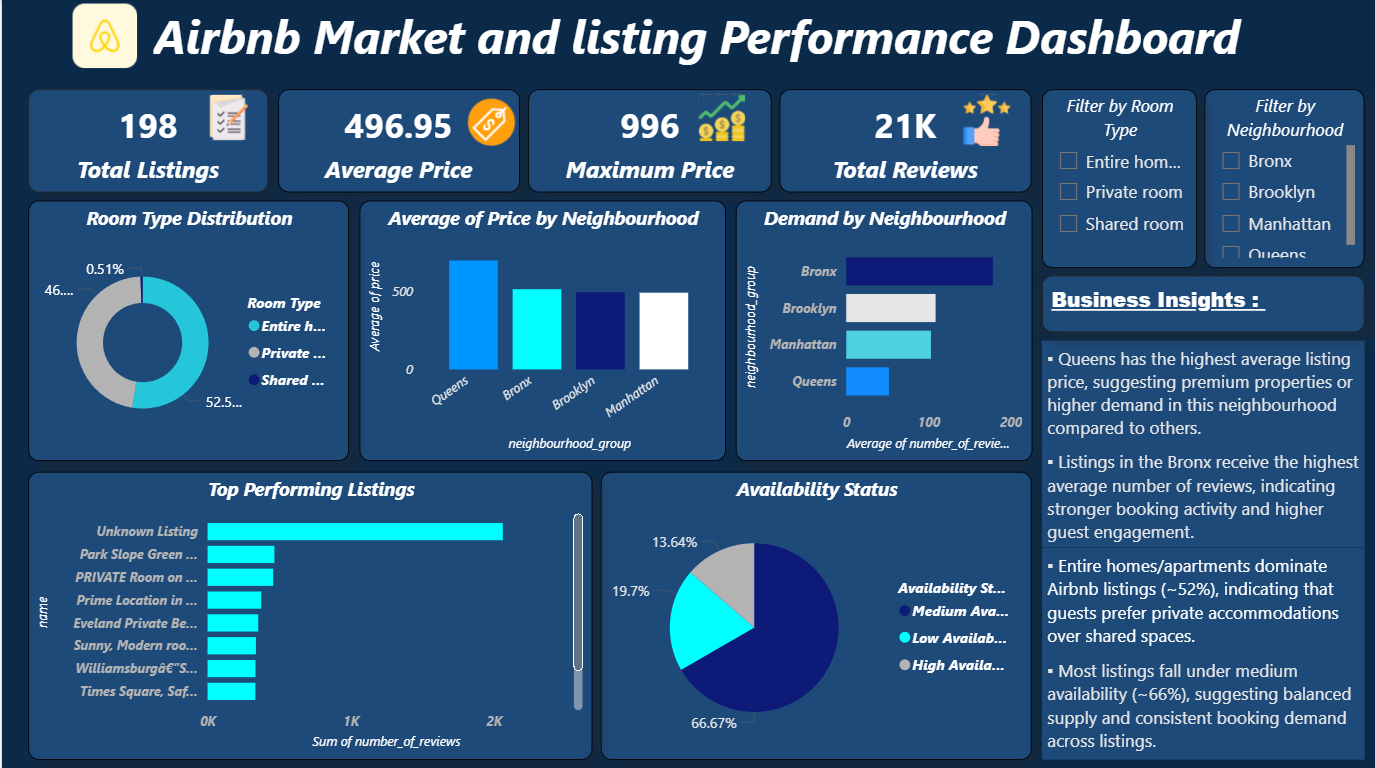

The dashboard page shown, as its layout file describes it:
{"tool":"powerbi","page":{"name":"Airbnb_Analysis Dashboard","canvas":[1280,720],"ordinal":0},"visuals":[{"type":"textbox","box":[136.2,1.1,1054.1,68.1],"z":0},{"type":"card","fields":{"Values":["airbnb airbnb_listings.Total Listings"]},"box":[24.6,84.9,223.3,96],"z":1000},{"type":"card","fields":{"Values":["airbnb airbnb_listings.Average Price"]},"box":[256.8,84.9,224.4,96],"z":2000},{"type":"card","fields":{"Values":["airbnb airbnb_listings.Maximum Price"]},"box":[489.1,84.9,226.7,96],"z":3000},{"type":"card","fields":{"Values":["airbnb airbnb_listings.Total Reviews"]},"box":[723.6,84.9,234.5,96],"z":4000},{"type":"clusteredColumnChart","title":"Average of Price by Neighbourhood","fields":{"Category":["airbnb airbnb_listings.neighbourhood_group"],"Y":["Avg(airbnb airbnb_listings.price)"]},"box":[332.8,188.7,340.6,242.3],"z":5000},{"type":"donutChart","title":"Room Type Distribution","fields":{"Category":["airbnb airbnb_listings.room_type"],"Y":["Count(airbnb airbnb_listings.id)"]},"box":[24.6,188.7,298.1,242.3],"z":6000},{"type":"clusteredBarChart","title":"Demand by Neighbourhood","fields":{"Category":["airbnb airbnb_listings.neighbourhood_group"],"Y":["Avg(airbnb airbnb_listings.number_of_reviews)"]},"box":[682.3,188.7,275.8,242.3],"z":7000},{"type":"pieChart","title":"Availability Status","fields":{"Category":["airbnb airbnb_listings.Availability Status"],"Y":["Count(airbnb airbnb_listings.id)"]},"box":[557.2,441.1,400.9,268],"z":8000},{"type":"clusteredBarChart","title":"Top Performing Listings","fields":{"Category":["airbnb airbnb_listings.name"],"Y":["Sum(airbnb airbnb_listings.number_of_reviews)"]},"box":[24.6,441.1,524.8,268],"z":9000},{"type":"slicer","title":"Filter by Neighbourhood","fields":{"Values":["airbnb airbnb_listings.neighbourhood_group"]},"box":[1118.9,84.9,148.5,166.4],"z":10000},{"type":"slicer","title":"Filter by Room Type","fields":{"Values":["airbnb airbnb_listings.room_type"]},"box":[967,84.9,144,166.4],"z":11000},{"type":"textbox","box":[967,318.2,300.4,97.1],"z":12000},{"type":"textbox","box":[967,415.4,300.4,96],"z":13000},{"type":"textbox","box":[967,511.4,300.4,98.3],"z":14000},{"type":"textbox","box":[967,609.7,300.4,99.4],"z":15000},{"type":"textbox","box":[967,257.9,300.4,52.5],"z":16000},{"type":"actionButton","box":[186.5,86,52.5,50.2],"z":17000},{"type":"actionButton","box":[428.8,86,52.5,59.2],"z":18000},{"type":"actionButton","box":[644.3,86,58.1,51.4],"z":19000},{"type":"actionButton","box":[888.8,86,69.2,55.8],"z":20000},{"type":"actionButton","box":[61.4,1.1,74.8,68.1],"z":21000},{"type":"actionButton","box":[99.4,12.3,73.7,72.6],"z":22000},{"type":"actionButton","box":[1190.3,254.6,71.5,59.2],"z":23000}]}

Visuals, with their boxes in screenshot pixels (x1, y1, x2, y2), scaled from the page's 1280x720 canvas onto the 1375x768 screenshot:
textbox: locate(146, 1, 1279, 74)
card - airbnb airbnb_listings.Total Listings: locate(26, 91, 266, 193)
card - airbnb airbnb_listings.Average Price: locate(276, 91, 517, 193)
card - airbnb airbnb_listings.Maximum Price: locate(525, 91, 769, 193)
card - airbnb airbnb_listings.Total Reviews: locate(777, 91, 1029, 193)
"Average of Price by Neighbourhood" clusteredColumnChart: locate(358, 201, 723, 460)
"Room Type Distribution" donutChart: locate(26, 201, 347, 460)
"Demand by Neighbourhood" clusteredBarChart: locate(733, 201, 1029, 460)
"Availability Status" pieChart: locate(599, 471, 1029, 756)
"Top Performing Listings" clusteredBarChart: locate(26, 471, 590, 756)
"Filter by Neighbourhood" slicer: locate(1202, 91, 1361, 268)
"Filter by Room Type" slicer: locate(1039, 91, 1193, 268)
textbox: locate(1039, 339, 1361, 443)
textbox: locate(1039, 443, 1361, 545)
textbox: locate(1039, 545, 1361, 650)
textbox: locate(1039, 650, 1361, 756)
textbox: locate(1039, 275, 1361, 331)
actionButton: locate(200, 92, 257, 145)
actionButton: locate(461, 92, 517, 155)
actionButton: locate(692, 92, 755, 147)
actionButton: locate(955, 92, 1029, 151)
actionButton: locate(66, 1, 146, 74)
actionButton: locate(107, 13, 186, 91)
actionButton: locate(1279, 272, 1355, 335)
